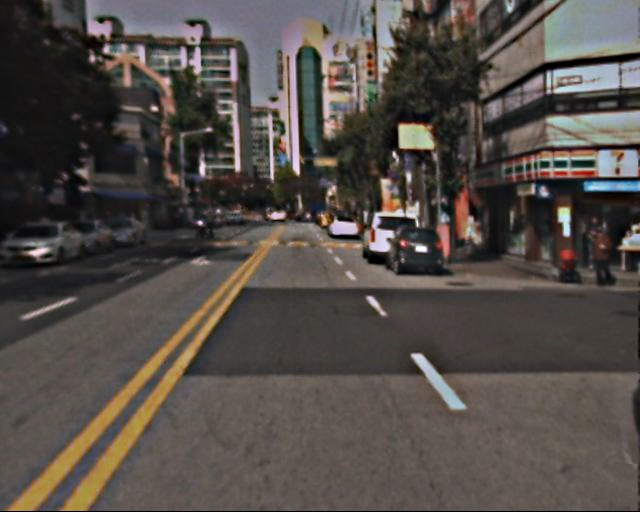person: (589, 217, 618, 285), (203, 207, 218, 243)
